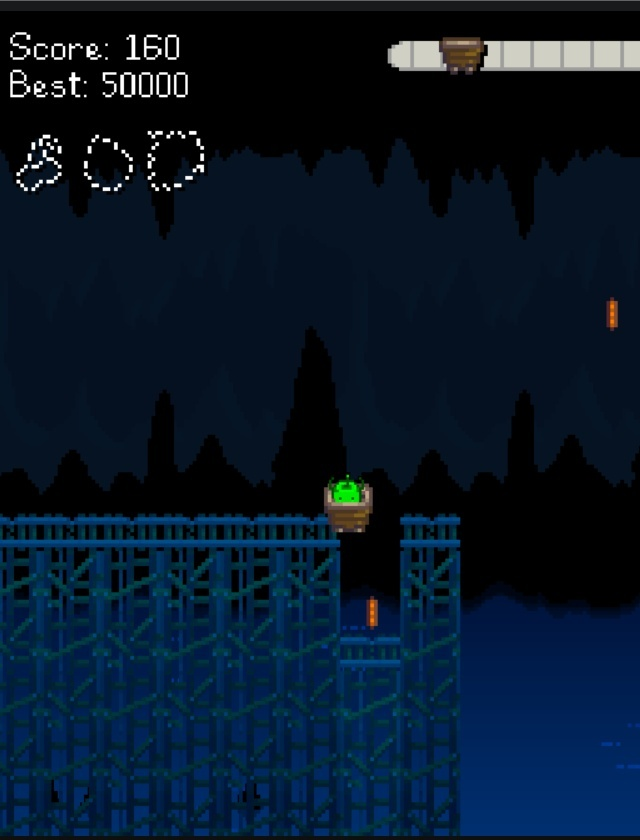coins: (606, 297, 618, 332), (367, 597, 377, 628)
tracks: (0, 502, 315, 555), (400, 504, 470, 558), (328, 624, 411, 668)
